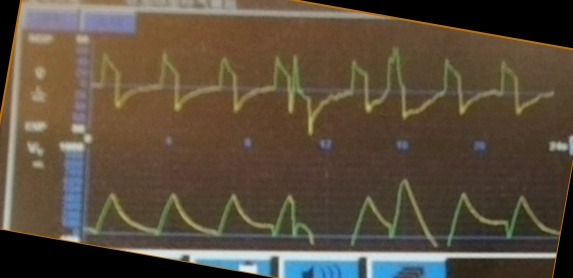Double_Triggering Flow: (92, 45, 555, 136)
Double_Triggering Volume: (89, 174, 557, 244)
